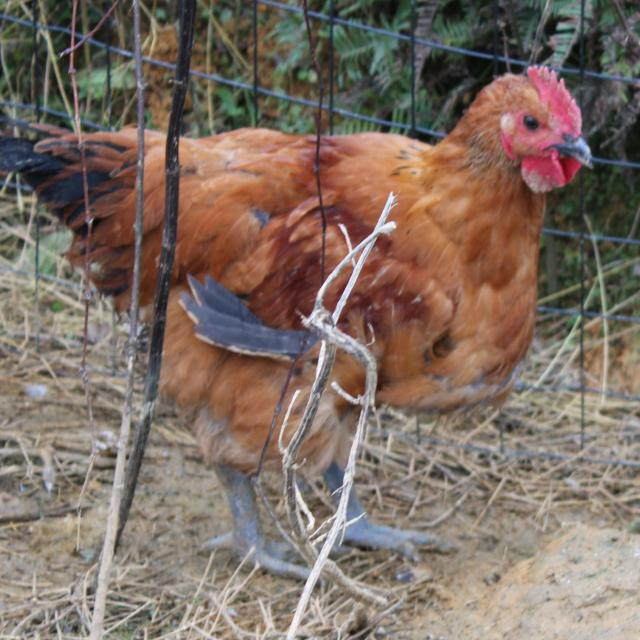hen: (292, 58, 640, 434), (294, 59, 635, 433), (149, 123, 329, 577), (153, 122, 332, 487), (0, 122, 89, 270), (0, 124, 88, 271), (0, 124, 88, 270), (83, 126, 144, 312), (84, 128, 136, 312), (84, 128, 135, 311), (295, 387, 368, 483), (271, 339, 326, 443), (139, 129, 167, 310), (140, 130, 167, 316)
